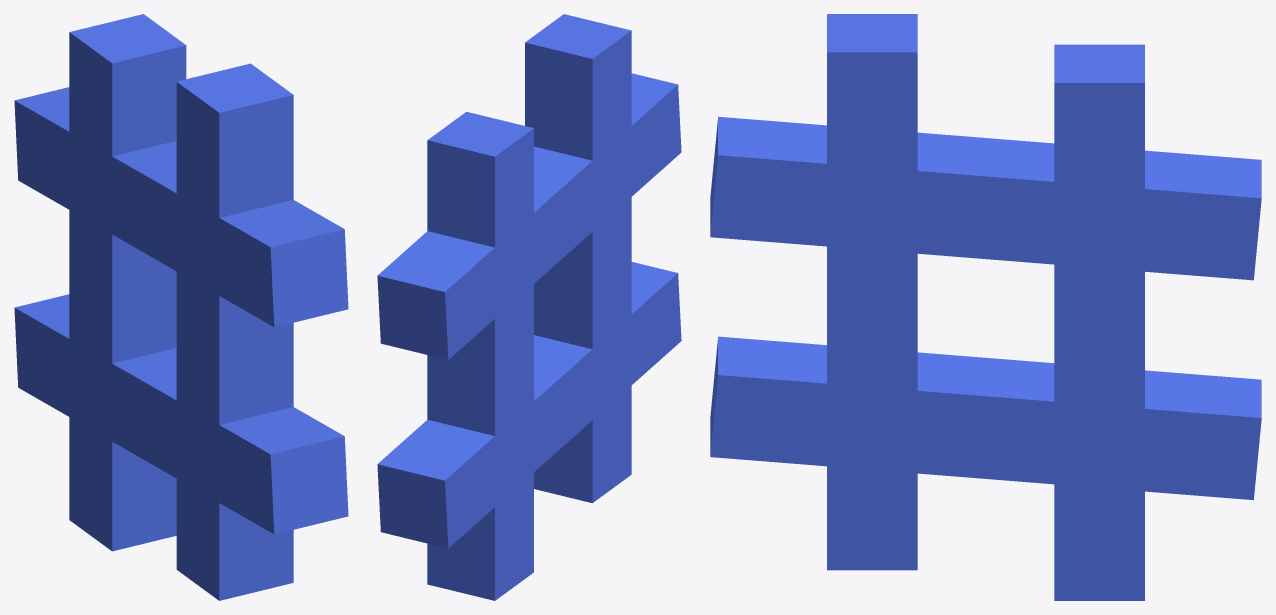
File: sharp.fbx
3 renders of one model, left to right at view 1: azimuth 30°, elevation 25°; view 2: azimuth 150°, elevation 25°; view 3: azimuth 270°, elevation 25°, orthographic. The views are drawn at different scales.
Visible parts, largest first — view 1: Cube; view 2: Cube; view 3: Cube.
Part boxes in pixels (bbox=[...]): Cube: bbox=[14, 14, 348, 600]; Cube: bbox=[377, 14, 681, 600]; Cube: bbox=[710, 14, 1261, 600].
Bounding box in the file's own units: 60 × 399 × 364.
